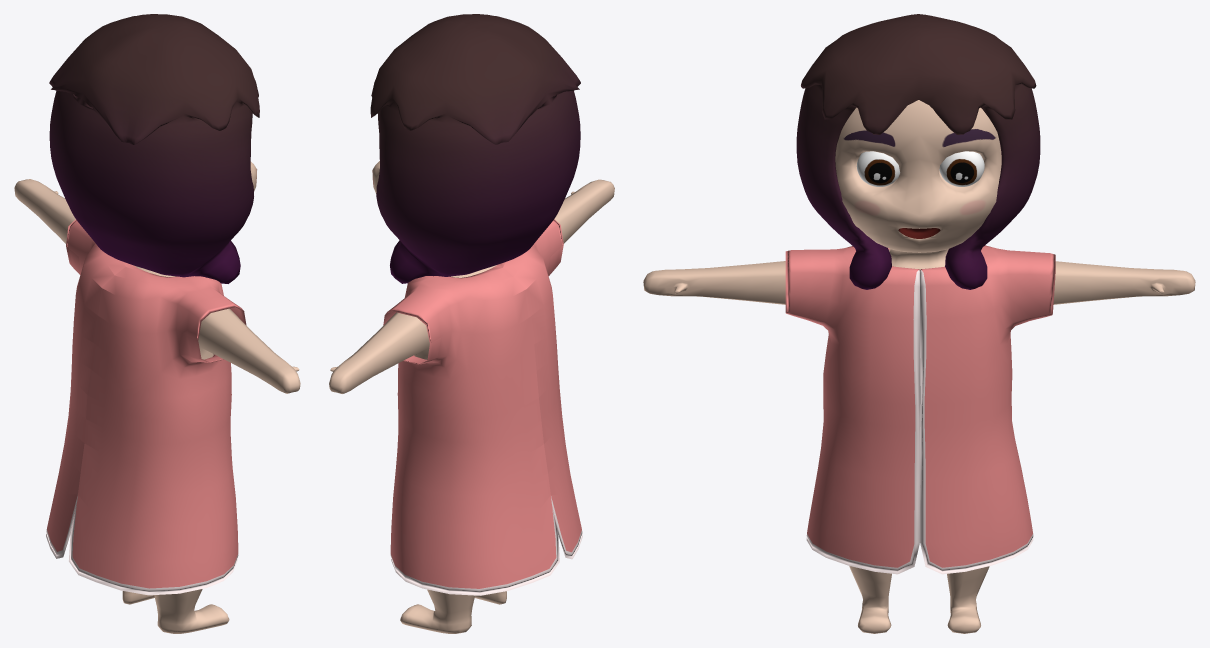
File: GIRL3.fbx
3 views of the same model, side by side, from view 1: azimuth 30°, elevation 25°; view 2: azimuth 150°, elevation 25°; view 3: azimuth 270°, elevation 25° (orthographic).
Parts seen in each view (by area): view 1: pCube5, pSphere3, pCube7; view 2: pCube5, pSphere3, pCube7; view 3: pCube5, pSphere3, pCube7, pSphere5, pSphere4.
Part boxes in pixels (x1=…): pCube5: x1=46, y1=219, x2=246, y2=595; pSphere3: x1=49, y1=14, x2=259, y2=283; pCube7: x1=14, y1=161, x2=300, y2=633; pCube5: x1=383, y1=219, x2=582, y2=595; pSphere3: x1=370, y1=14, x2=580, y2=283; pCube7: x1=329, y1=161, x2=614, y2=633; pCube5: x1=785, y1=245, x2=1055, y2=574; pSphere3: x1=796, y1=14, x2=1040, y2=289; pCube7: x1=643, y1=100, x2=1195, y2=633; pSphere5: x1=939, y1=151, x2=984, y2=186; pSphere4: x1=856, y1=151, x2=900, y2=186.
Bounding box in the file's own units: 2.24 × 7.05 × 5.94.
1 material, 1 textured.
